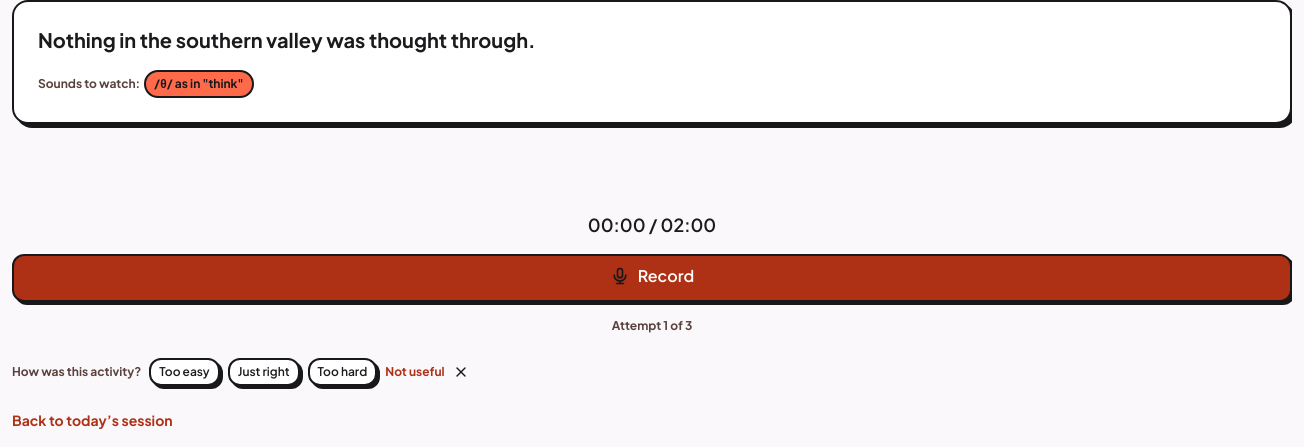
it: SpeakingRunner › shows_the_credential_sentence_when_the_upload_is_rejected_with_cred002
Click the button with aria-label "Start recording" at [652, 278], box [12,254,1292,302]
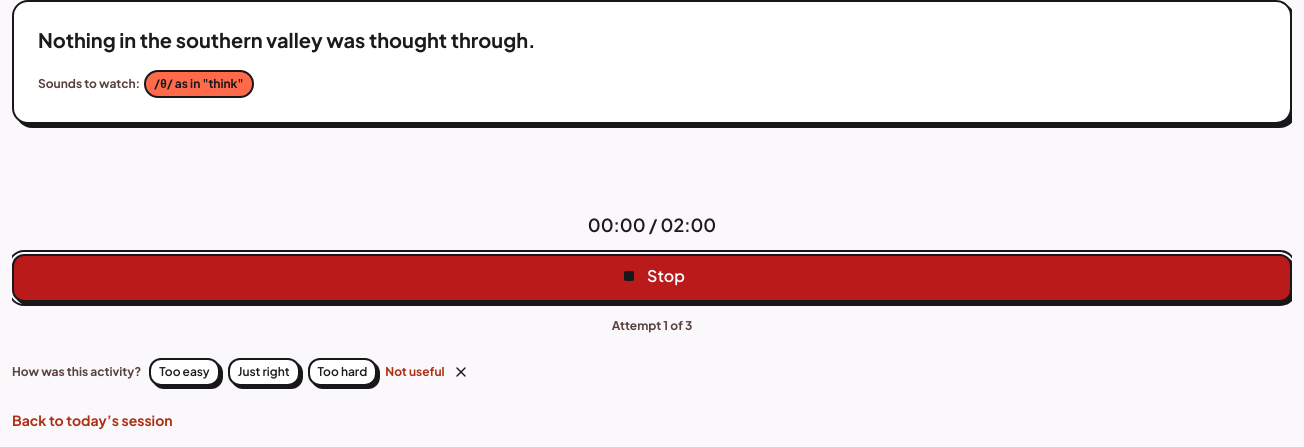
Expected: the button with aria-label "Stop recording" is shown
Click the button with aria-label "Stop recording" at [652, 278], box [12,254,1292,302]
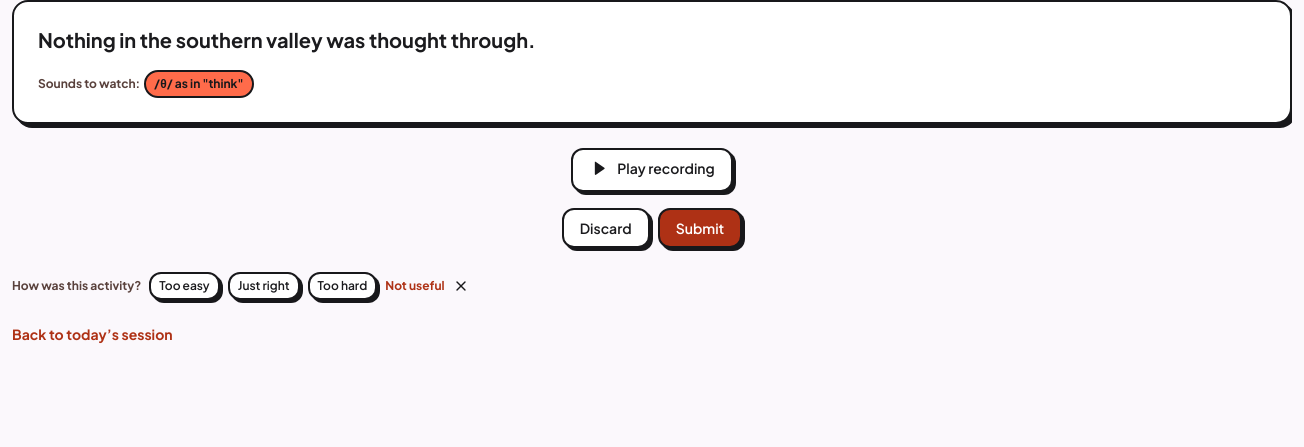
Expected: the button "Submit" is shown
Click the button "Submit" at [700, 228], box [658,208,742,248]
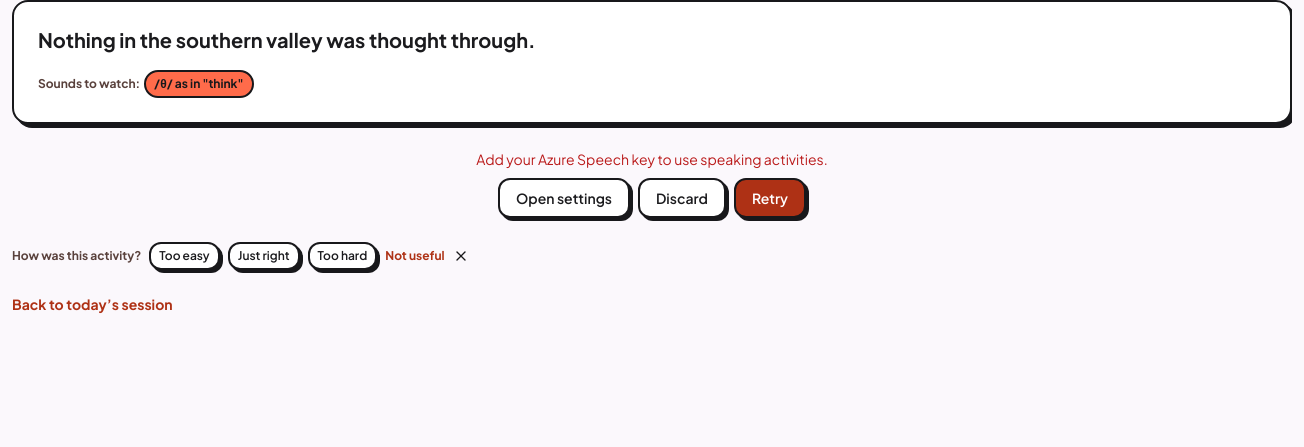
Expected: the text "Add your Azure Speech key to use speaking activities." is shown, [476,148,828,170]
Expected: the link "Open settings" is shown, [498,178,630,218]
Expected: the button "Retry" is shown, [734,178,806,218]
